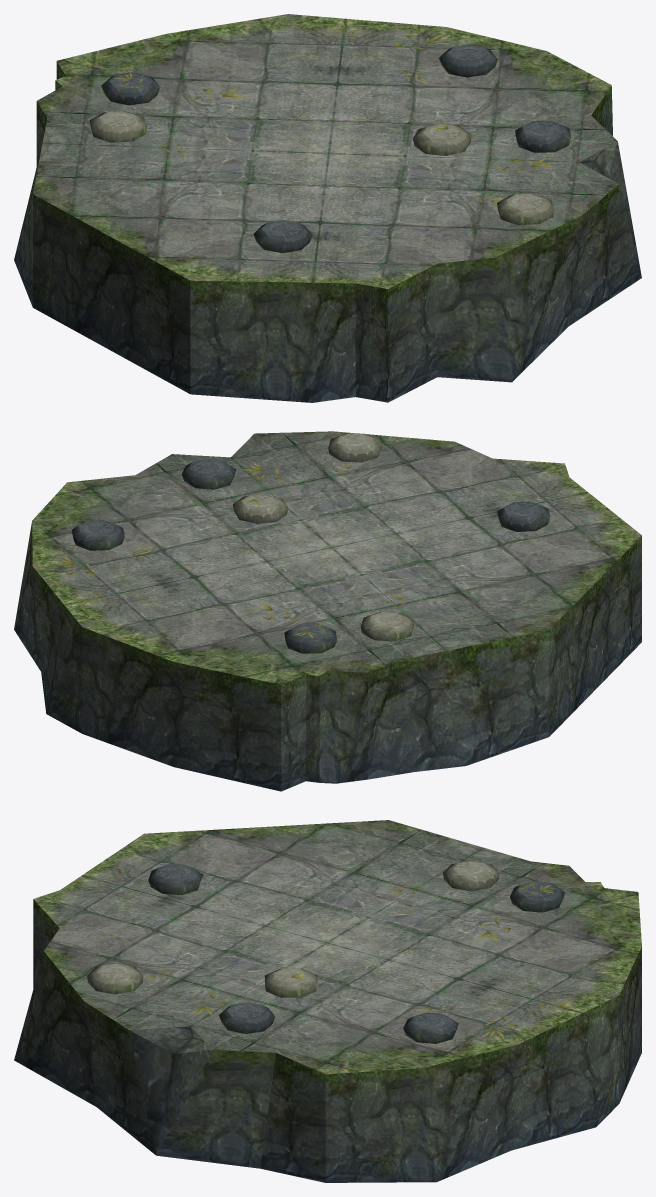
The model's file is yuantai_wlc_40.FBX.
3 renders of one model, top to bottom at view 1: azimuth 30°, elevation 25°; view 2: azimuth 150°, elevation 25°; view 3: azimuth 270°, elevation 25°, orthographic. The views are drawn at different scales.
Parts seen in each view (by area): view 1: yuantai_wlc_40; view 2: yuantai_wlc_40; view 3: yuantai_wlc_40.
Part boxes in pixels (x1,y1,x2,y2): yuantai_wlc_40: [14, 14, 641, 402]; yuantai_wlc_40: [14, 431, 641, 791]; yuantai_wlc_40: [14, 820, 641, 1182].
Size of what is drawn, in the model's own units: 1663 by 369 by 1735.
